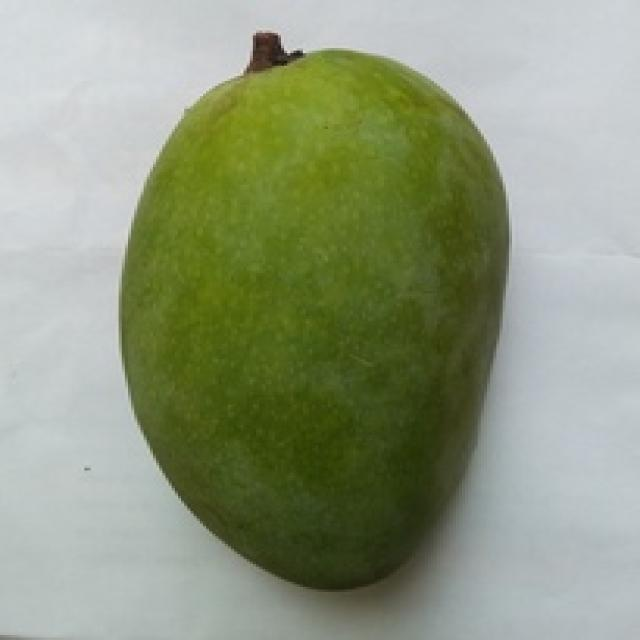Mango: (122, 38, 503, 587)
